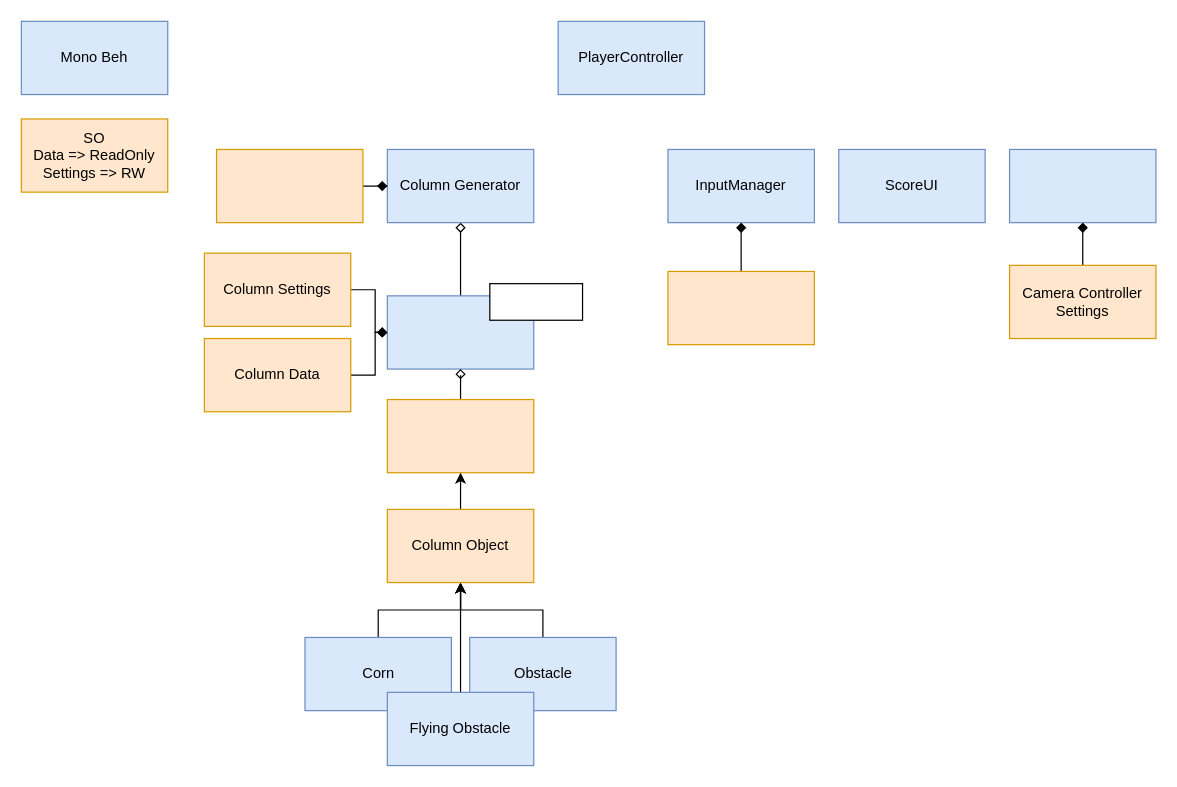
Image size: 1177x787. Some labels were removed from this diagram. Here are the shapes that lost their labels. From the top down, the centre of each, then its label:
(x=289, y=185): Column Generator Settings
(x=1082, y=185): Camera Controller
(x=536, y=301): Pool
(x=740, y=307): Input Manager Data
(x=460, y=332): Column
(x=460, y=435): Column Object List
